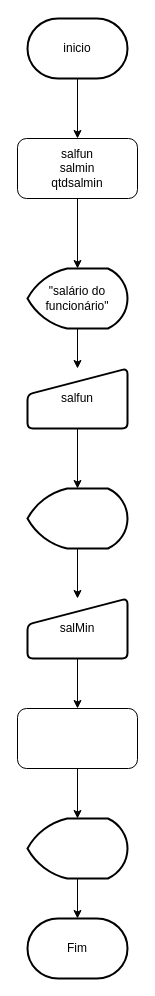
This 155x996 diagram has some shape labels left out. The shapes that lost their labels are listed below. From the top down, each one's centre as x and y in pixels, then its label:
(77,518): "salário minimo"
(77,738): qtdSalMin<- SalFun/SalMin
(77,848): "Quant. Sal. Mínimo: ",qtdSalMin"
